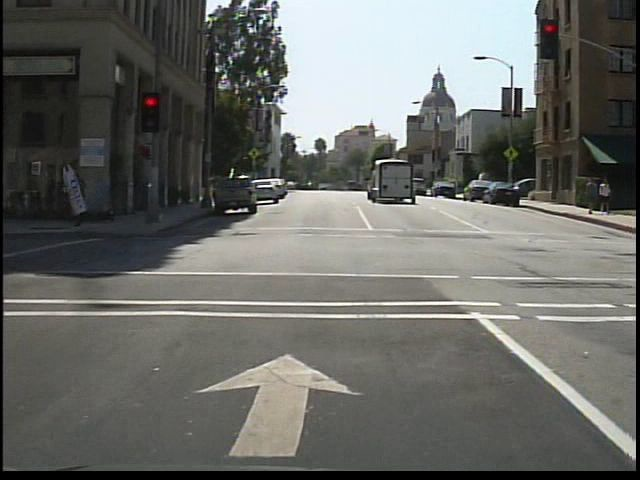person: (63, 168, 104, 233), (582, 175, 601, 216), (598, 177, 614, 219)
